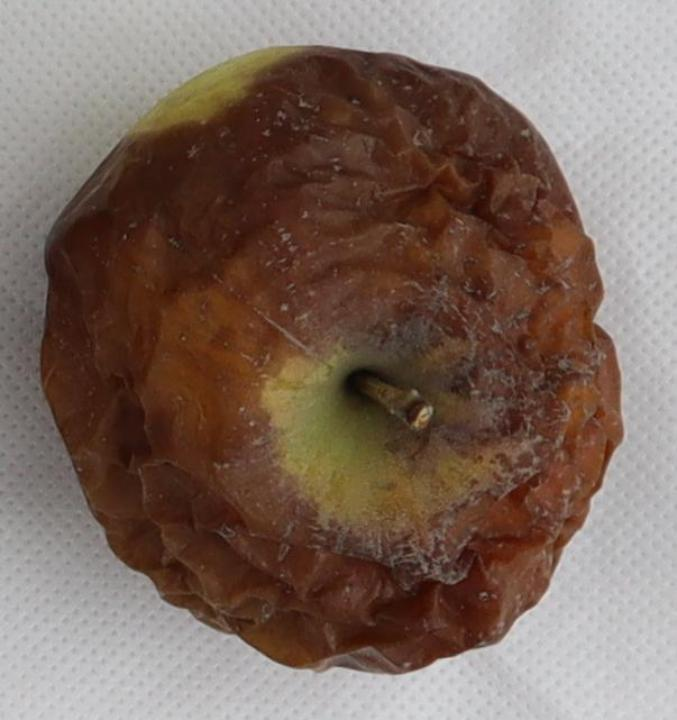apple: (43, 47, 621, 672)
rot_mold_decay: (45, 51, 618, 671)
